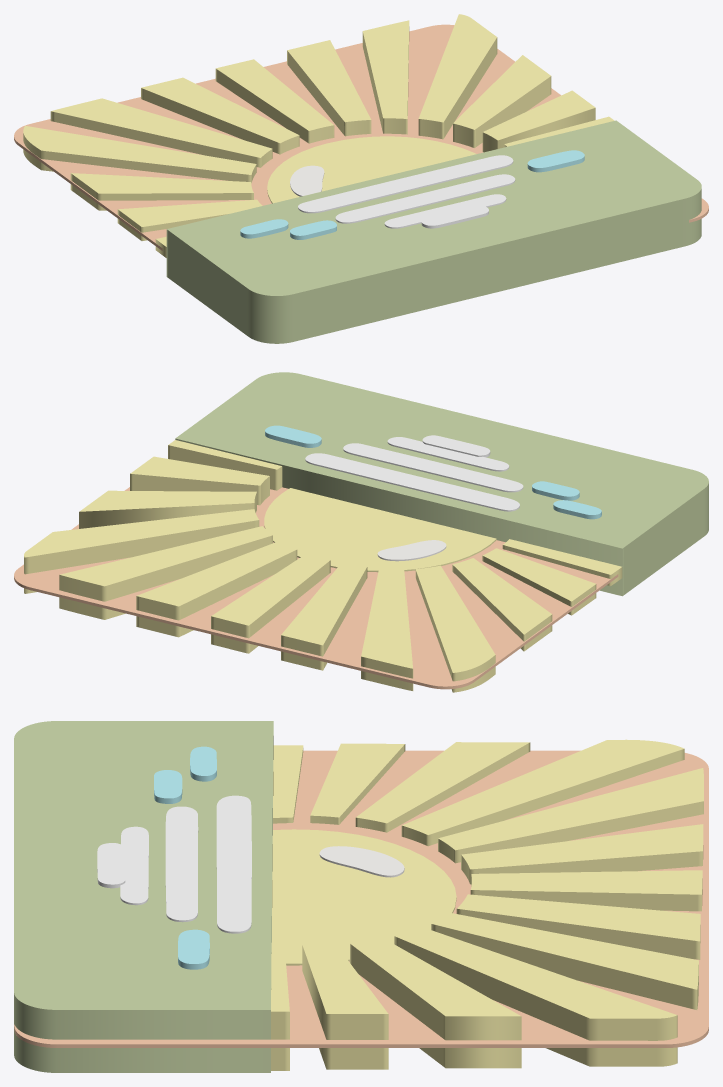
Rendered from emoji_u1f305.glb.
3 views of the same model, one above another, from view 1: azimuth 30°, elevation 25°; view 2: azimuth 150°, elevation 25°; view 3: azimuth 270°, elevation 25° (orthographic). The views are drawn at different scales.
Visible parts, largest first — view 1: emoji_u1f305; view 2: emoji_u1f305; view 3: emoji_u1f305.
Boxes of the visible parts, x1=… form: emoji_u1f305: x1=14, y1=14, x2=708, y2=343; emoji_u1f305: x1=14, y1=372, x2=708, y2=692; emoji_u1f305: x1=14, y1=721, x2=708, y2=1072.
Size of the model in its own units: 0.034 by 0.004 by 0.034.
